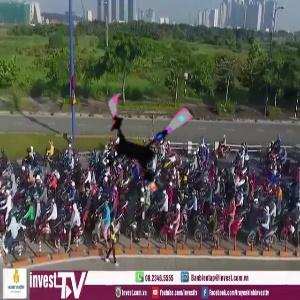drone: (90, 83, 203, 196)
